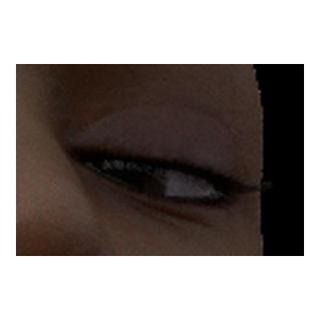pupil: (107, 164, 142, 199)
